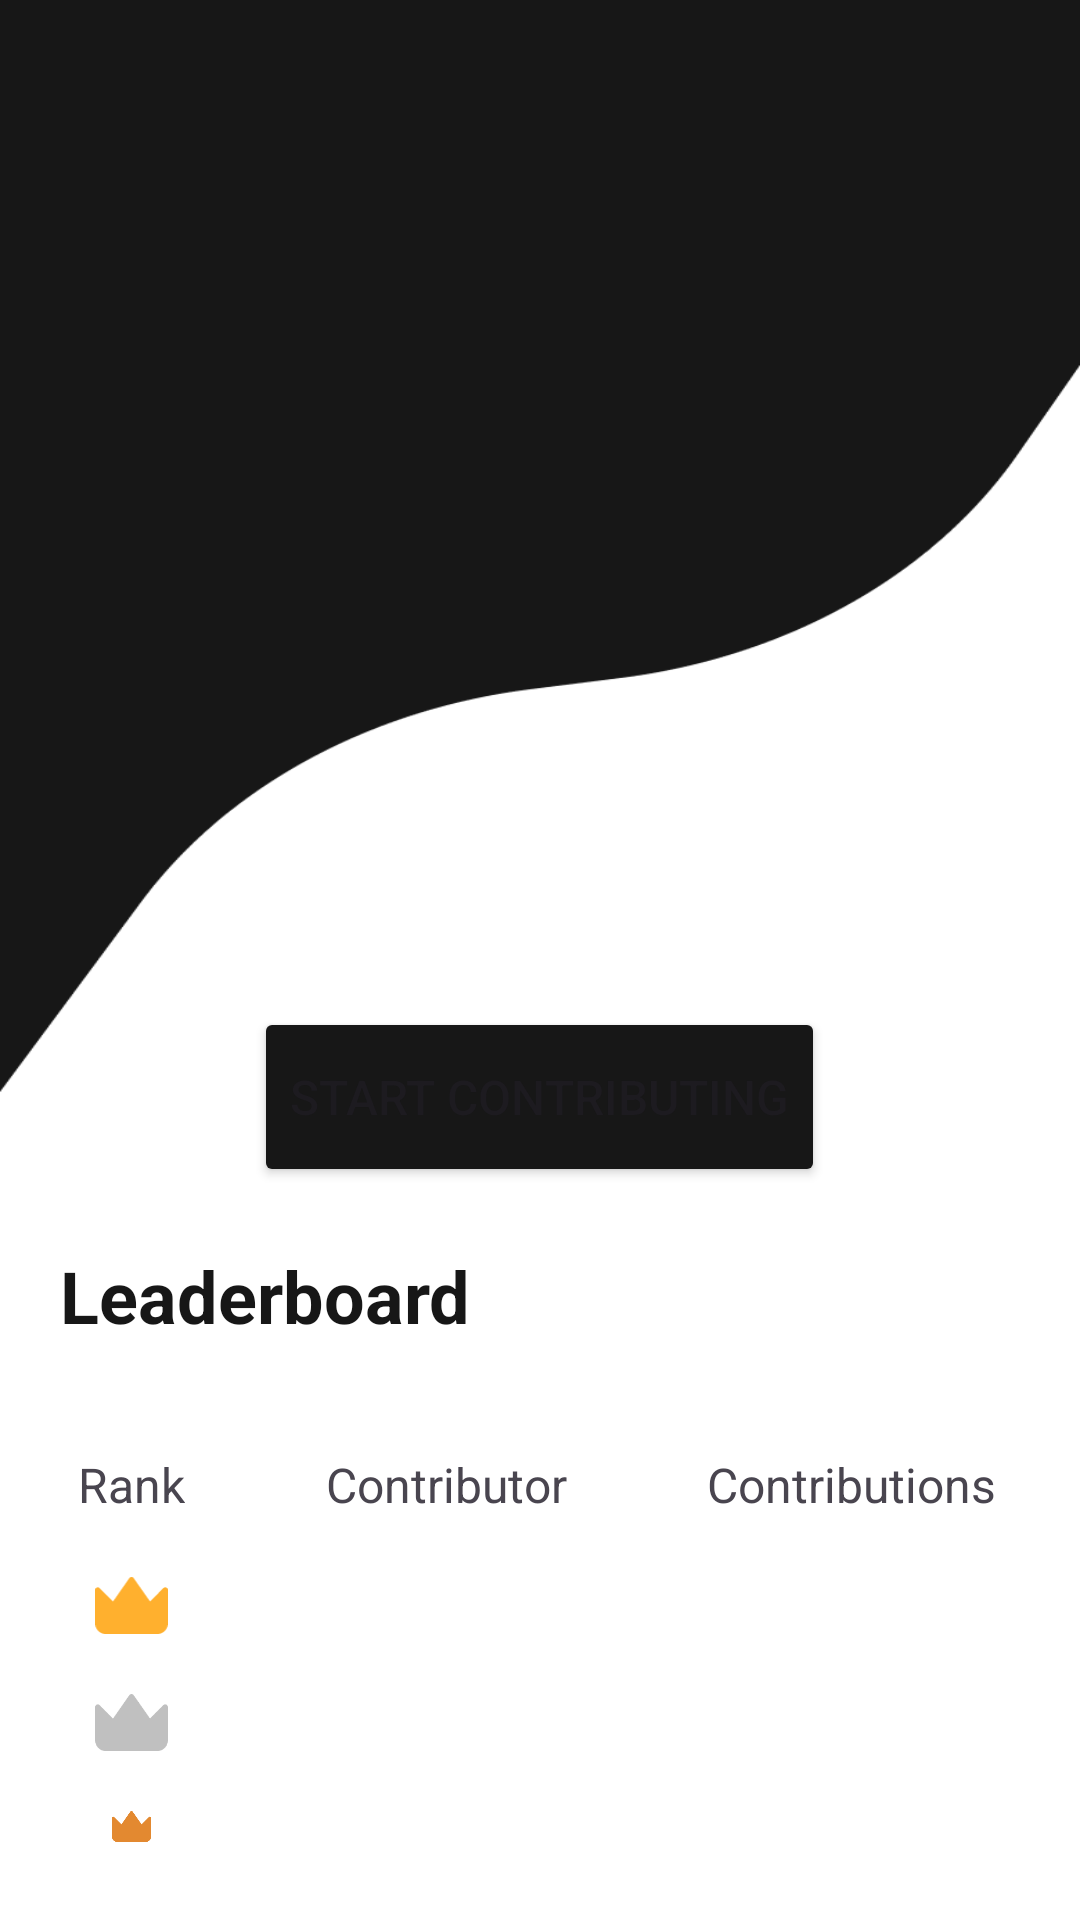

Named icons in this screenshot (1080px×1920px) and their bounding boxes, region(x1, y1, x2, y2):
bronze crown: region(112, 1811, 151, 1842)
gold crown: region(95, 1577, 168, 1634)
silver crown: region(95, 1694, 168, 1751)
